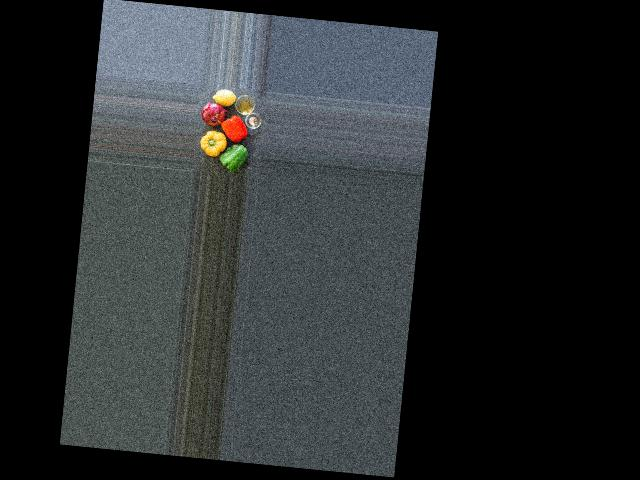bell_pepper: (218, 114, 250, 143)
